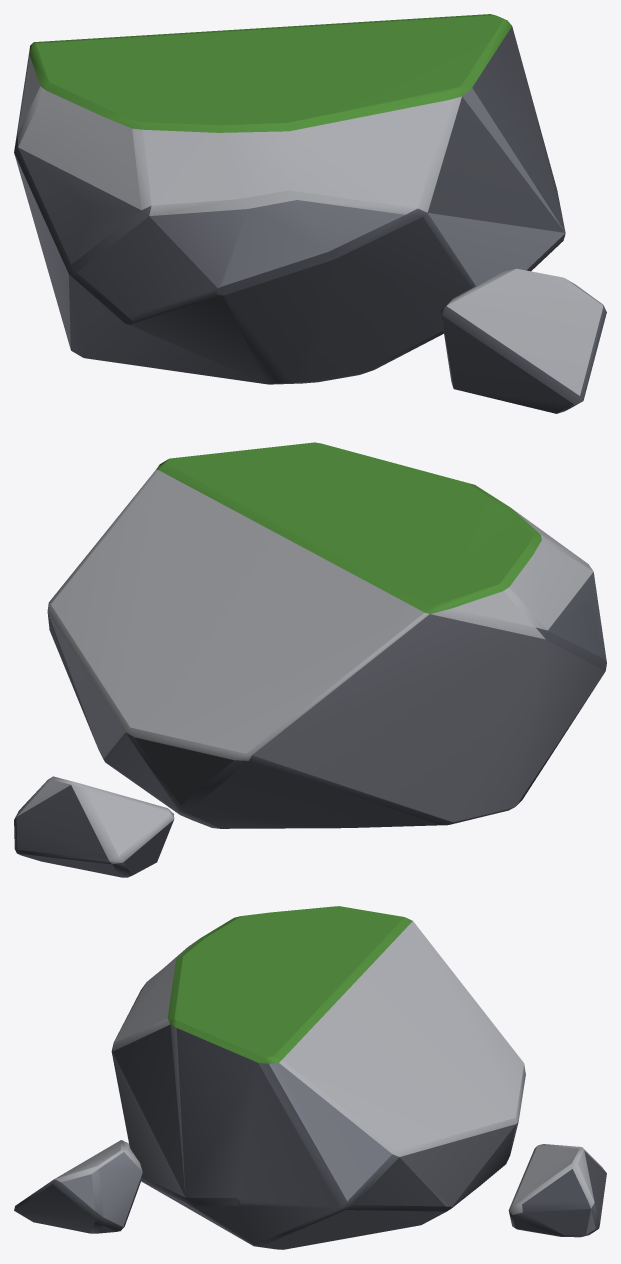
The model's file is Boulder_24.glb.
3 views of the same model, one above another, from view 1: azimuth 30°, elevation 25°; view 2: azimuth 150°, elevation 25°; view 3: azimuth 270°, elevation 25° (orthographic). The views are drawn at different scales.
Visible parts, largest first — view 1: Boulder_24; view 2: Boulder_24; view 3: Boulder_24.
Part boxes in pixels (x1,y1,x2,y2): Boulder_24: (14,14,606,413); Boulder_24: (14,442,606,877); Boulder_24: (14,906,606,1249).
Size of the model in its own units: 6.02 by 2.87 by 7.68.
